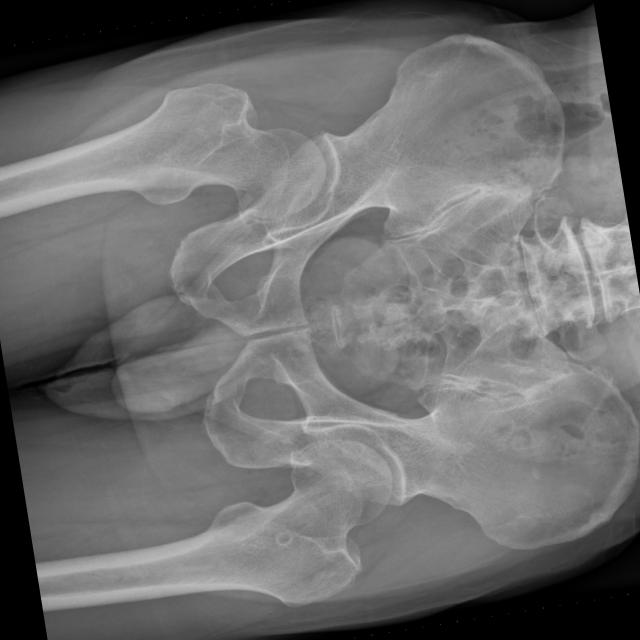normal-left: (125, 440, 392, 608)
normal-right: (34, 83, 325, 219)
